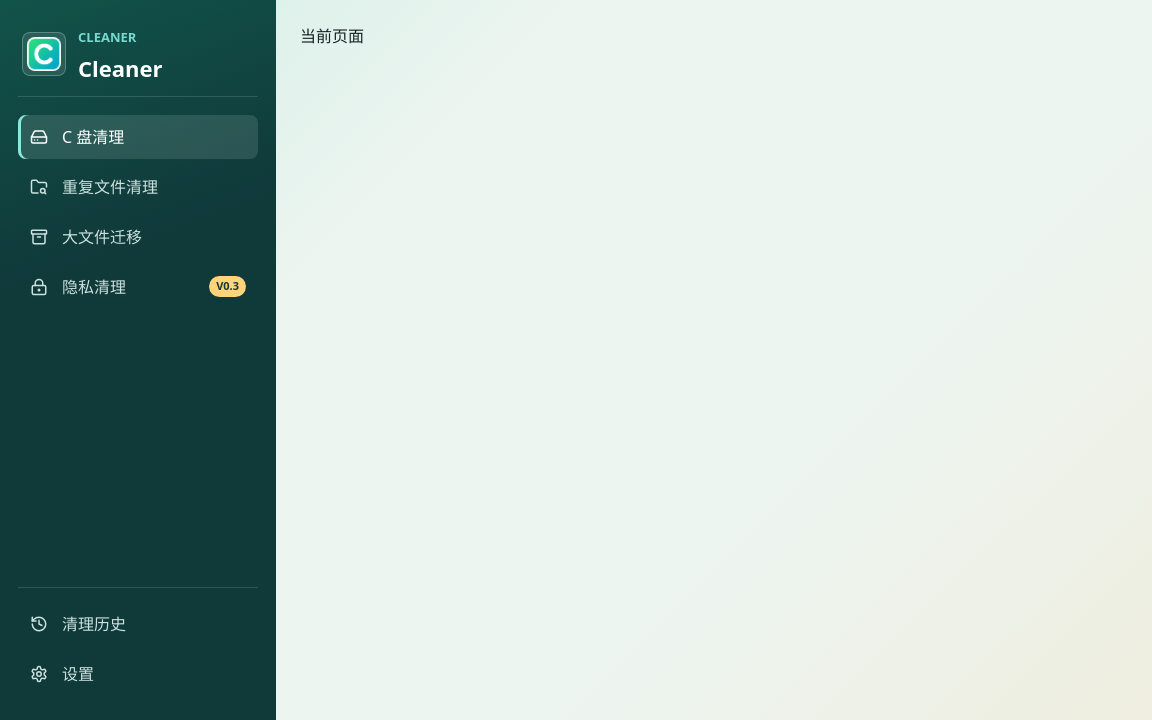
Test: SidebarShell › shows the V0.3 inline message when privacy cleanup is selected
Step 1. Click the button "隐私清理 V0.3" → [138, 287], box [18, 265, 258, 309]
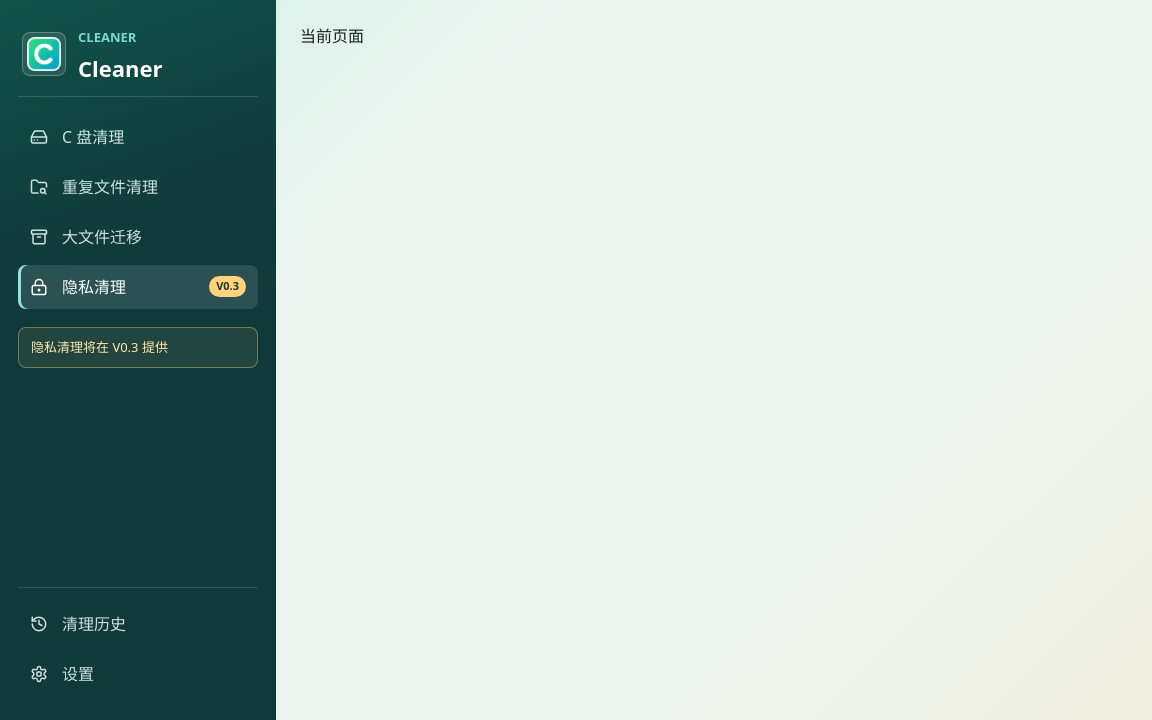
Expected: the text "隐私清理将在 V0.3 提供" is shown, [18, 327, 258, 368]
